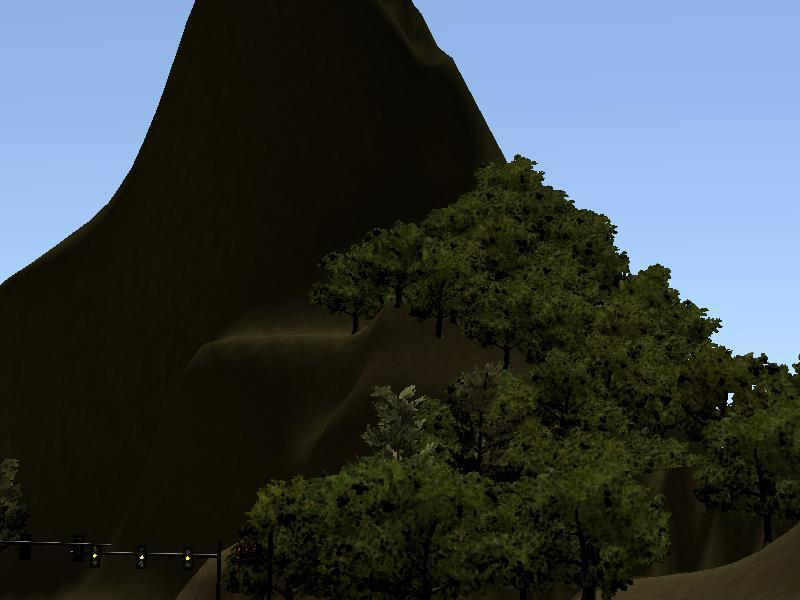Yellow: (136, 545, 148, 570), (90, 544, 101, 569), (183, 546, 193, 569)
